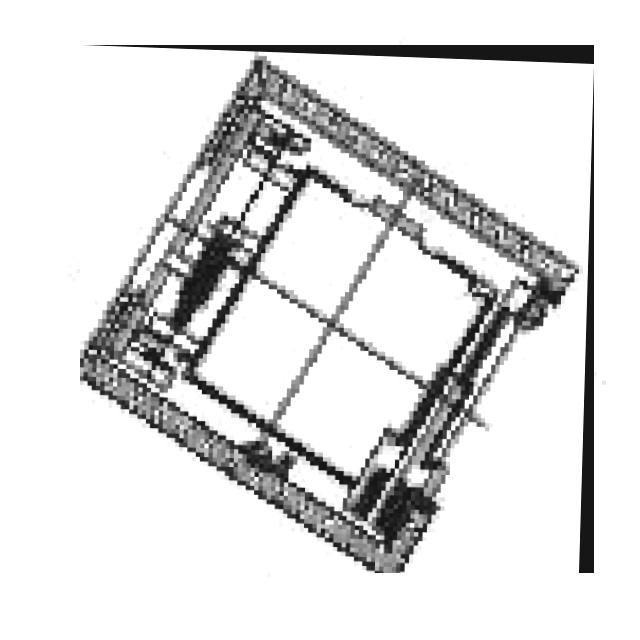lift: (80, 45, 594, 573)
